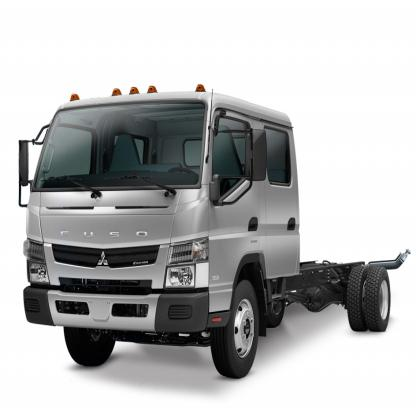truck: (16, 86, 416, 377)
